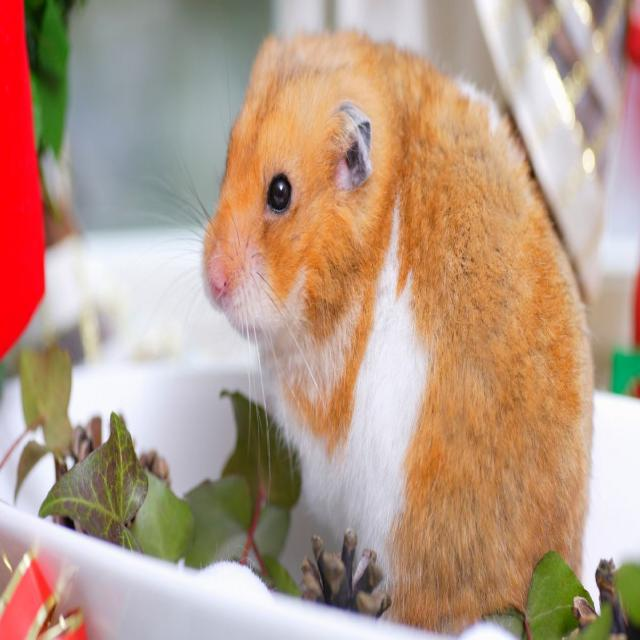hamster: (198, 27, 596, 619)
